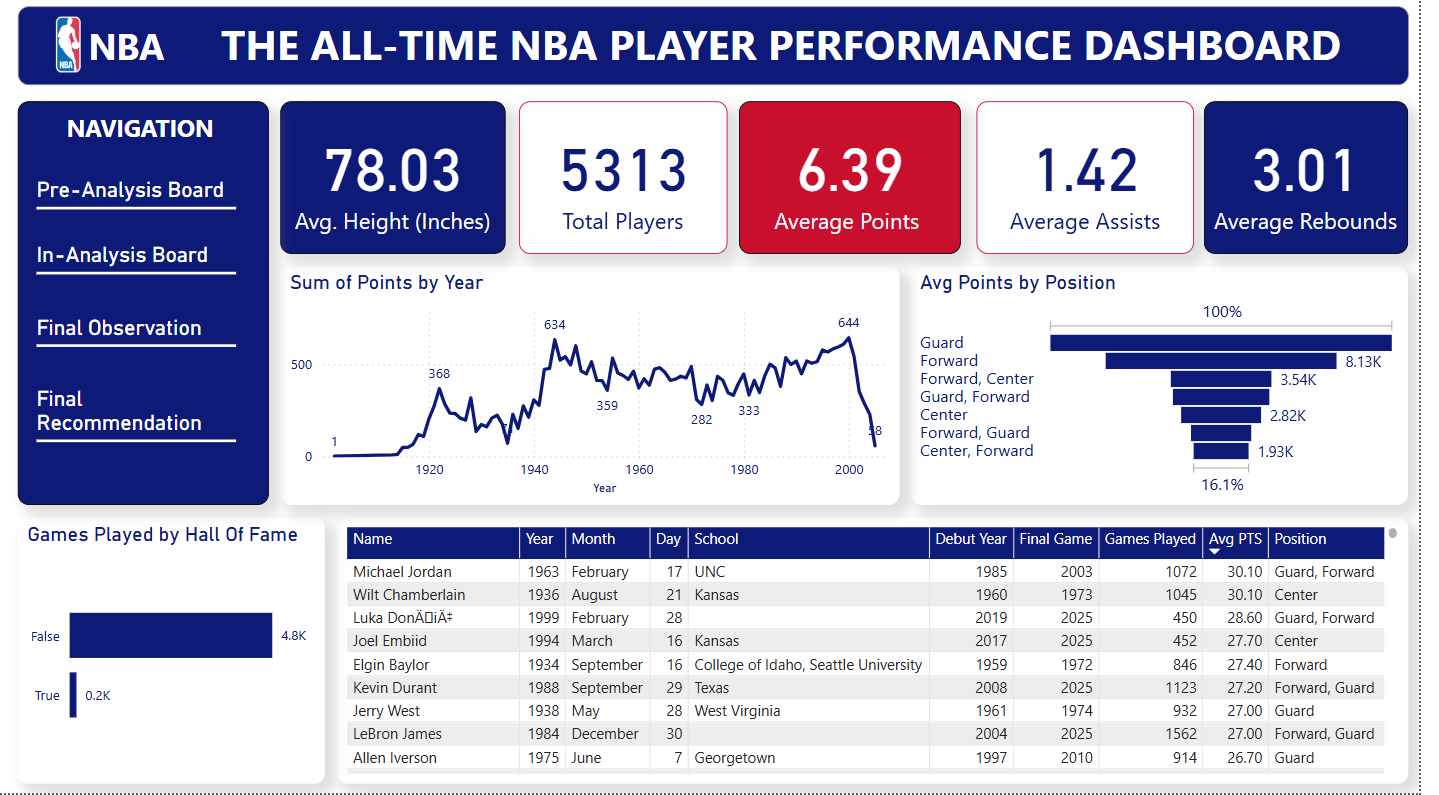

This screenshot's page, from the dashboard's own definition file:
{"tool":"powerbi","page":{"name":"Dashboard","canvas":[1280,720],"ordinal":2},"visuals":[{"type":"tableEx","fields":{"Values":["Cleaned Data.Name","Cleaned Data.Birthday.Variation.Date Hierarchy.Year","Cleaned Data.Birthday.Variation.Date Hierarchy.Month","Cleaned Data.Birthday.Variation.Date Hierarchy.Day","Cleaned Data.School","Sum(Cleaned Data.Debut)","Sum(Cleaned Data.Final)","Sum(Cleaned Data.Games)","Avg(Cleaned Data.PTS )","Cleaned Data.Position"]},"box":[304.6,470.7,966,240.1],"z":0},{"type":"funnel","fields":{"Category":["Cleaned Data.Position"],"Y":["Sum(Cleaned Data.PTS )"]},"box":[822,244.3,448.7,215.4],"z":1000},{"type":"barChart","fields":{"Category":["Cleaned Data.HOF"],"Y":["CountNonNull(Cleaned Data.Games)"]},"box":[16.5,470.7,277.2,240.1],"z":2000},{"type":"lineChart","fields":{"Category":["Cleaned Data.Birthday.Variation.Date Hierarchy.Year"],"Y":["Sum(Cleaned Data.PTS )"]},"box":[253.9,244.3,558.5,215.4],"z":3000},{"type":"card","fields":{"Values":["CountNonNull(Cleaned Data.Name)"]},"box":[469.3,96.1,188,137.2],"z":4000},{"type":"card","fields":{"Values":["Avg(Cleaned Data.PTS )"]},"box":[666.9,96.1,200.3,137.2],"z":5000},{"type":"card","fields":{"Values":["Avg(Cleaned Data.AST)"]},"box":[881,96.1,196.2,137.2],"z":6000},{"type":"card","fields":{"Values":["Avg(Cleaned Data.TRB)"]},"box":[1086.8,96.1,183.9,137.2],"z":7000},{"type":"card","fields":{"Values":["Avg(Cleaned Data.Height (Inches))"]},"box":[253.9,96.1,203.1,137.2],"z":8000},{"type":"textbox","box":[16.5,9.6,1254.2,71.4],"z":9000},{"type":"textbox","title":"     NAVIGATION","box":[16.5,96.1,226.4,363.6],"z":10000},{"type":"image","box":[16.5,15.1,91.9,60.4],"z":11000},{"type":"actionButton","title":" In-Analysis Board","box":[34.3,223.7,179.8,39.8],"z":12000},{"type":"actionButton","title":"Final Observation","box":[34.3,288.2,179.8,39.8],"z":13000},{"type":"actionButton","title":"Final Recommendation","box":[34.3,352.7,179.8,53.5],"z":14000},{"type":"actionButton","title":"Pre-Analysis Board","box":[34.3,164.7,179.8,39.8],"z":15000}]}

Visuals, with their boxes in screenshot pixels (x1, y1, x2, y2), scaled from the page's 1280x720 canvas onto the 1439x795 screenshot:
tableEx - Cleaned Data.Name x Cleaned Data.Birthday.Variation.Date Hierarchy.Year: [left=342, top=520, right=1428, bottom=785]
funnel - Cleaned Data.Position x Sum(Cleaned Data.PTS ): [left=924, top=270, right=1429, bottom=508]
barChart - Cleaned Data.HOF x CountNonNull(Cleaned Data.Games): [left=19, top=520, right=330, bottom=785]
lineChart - Cleaned Data.Birthday.Variation.Date Hierarchy.Year x Sum(Cleaned Data.PTS ): [left=285, top=270, right=913, bottom=508]
card - CountNonNull(Cleaned Data.Name): [left=528, top=106, right=739, bottom=258]
card - Avg(Cleaned Data.PTS ): [left=750, top=106, right=975, bottom=258]
card - Avg(Cleaned Data.AST): [left=990, top=106, right=1211, bottom=258]
card - Avg(Cleaned Data.TRB): [left=1222, top=106, right=1429, bottom=258]
card - Avg(Cleaned Data.Height (Inches)): [left=285, top=106, right=514, bottom=258]
textbox: [left=19, top=11, right=1429, bottom=89]
"     NAVIGATION" textbox: [left=19, top=106, right=273, bottom=508]
image: [left=19, top=17, right=122, bottom=83]
" In-Analysis Board" actionButton: [left=39, top=247, right=241, bottom=291]
"Final Observation" actionButton: [left=39, top=318, right=241, bottom=362]
"Final Recommendation" actionButton: [left=39, top=389, right=241, bottom=449]
"Pre-Analysis Board" actionButton: [left=39, top=182, right=241, bottom=226]
